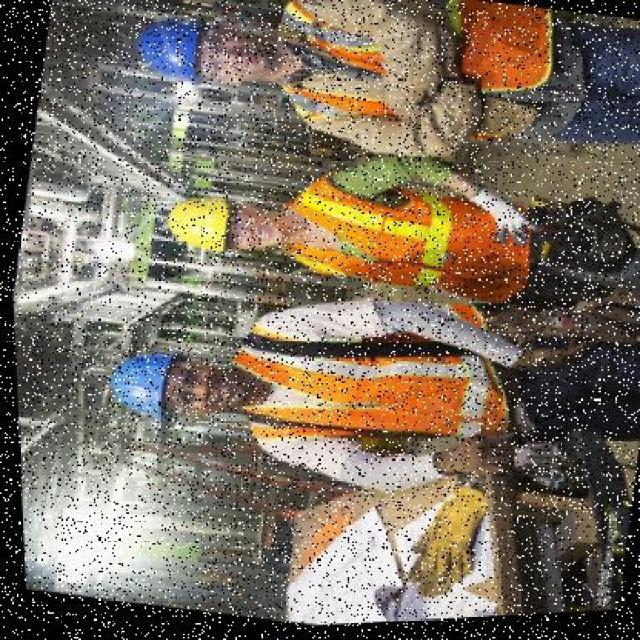helmet: (96, 337, 179, 428), (128, 3, 208, 85), (160, 189, 232, 257)
vest: (251, 0, 573, 180), (217, 303, 519, 485), (272, 162, 546, 322)
